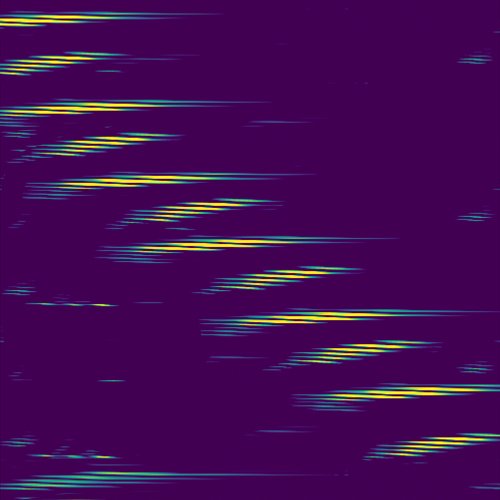semblance: (129, 196, 268, 224), (51, 169, 226, 191), (35, 131, 173, 158), (1, 49, 125, 79), (296, 338, 430, 365), (1, 97, 163, 119), (383, 430, 500, 460), (229, 263, 348, 291), (135, 233, 291, 254), (233, 307, 393, 327), (326, 384, 491, 403), (1, 9, 138, 30)
